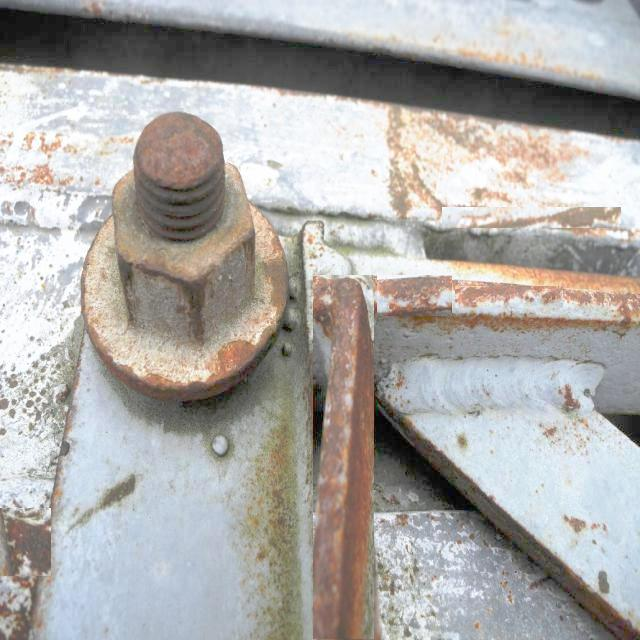Corrosion: (313, 276, 375, 640), (314, 278, 375, 640), (133, 112, 225, 242), (108, 351, 229, 401), (457, 281, 640, 314), (467, 264, 640, 292), (210, 334, 276, 390), (379, 276, 453, 314), (117, 256, 191, 285), (176, 277, 209, 338), (82, 300, 110, 368), (269, 235, 289, 318), (561, 385, 582, 412), (566, 517, 588, 534), (245, 229, 254, 250), (458, 434, 469, 448)
